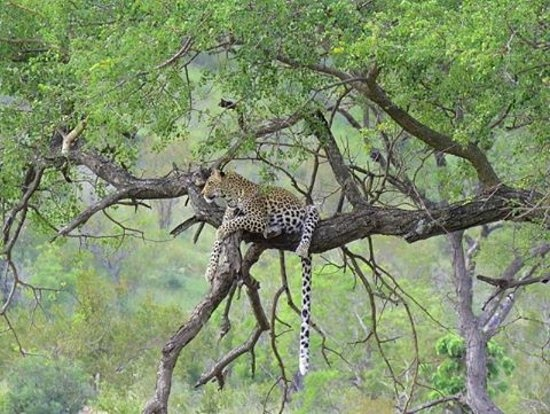leopard: (198, 164, 321, 377)
